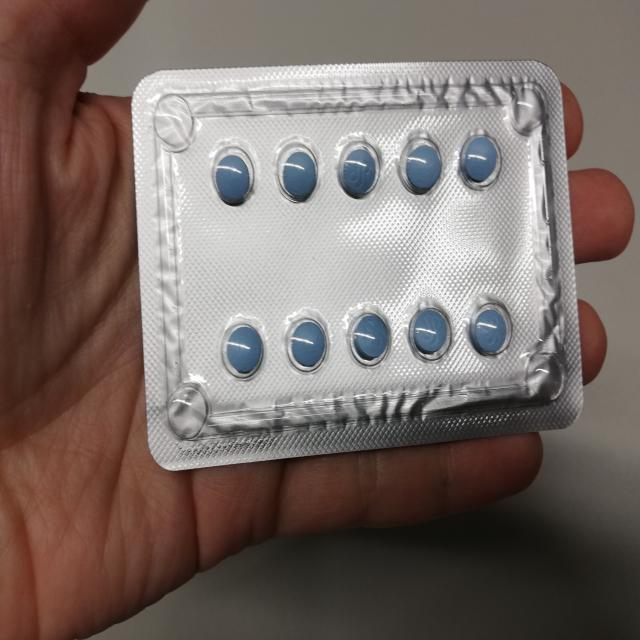Pill: (208, 308, 268, 392), (275, 306, 337, 384), (392, 120, 448, 204), (340, 294, 394, 380), (464, 289, 524, 365), (456, 119, 506, 209), (268, 130, 322, 209), (205, 133, 257, 213), (332, 126, 382, 204), (403, 292, 450, 368)
